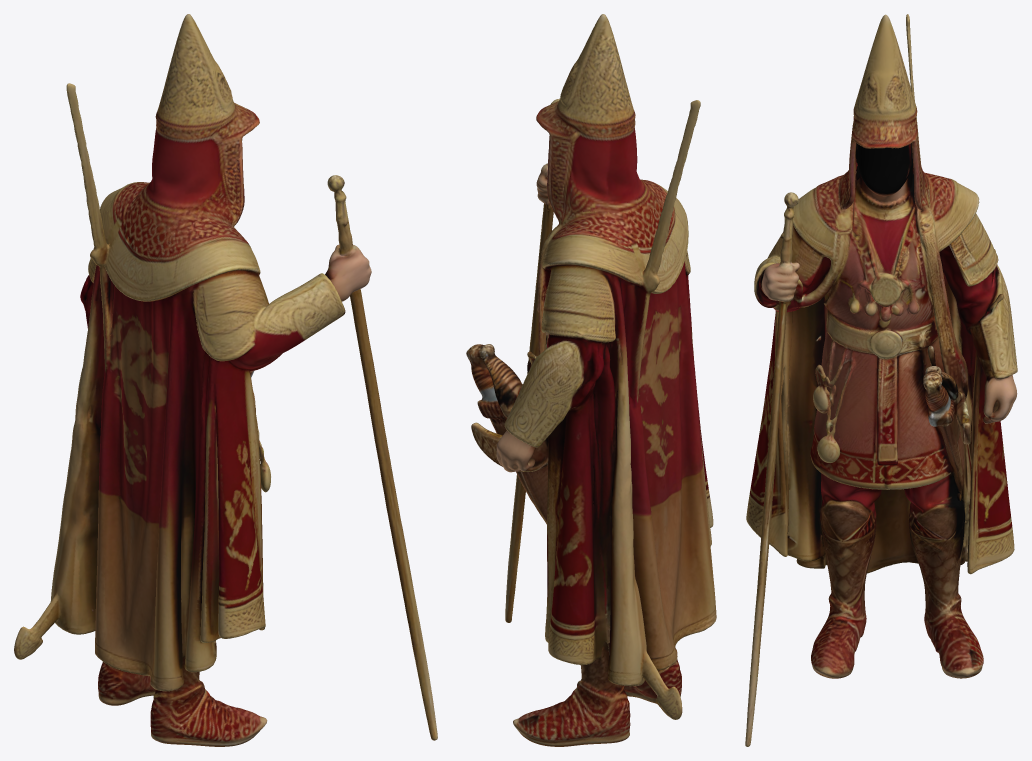
Rendered from sak_2_3d_model.glb.
The picture shows the model from 3 angles, left to right: view 1: azimuth 30°, elevation 25°; view 2: azimuth 150°, elevation 25°; view 3: azimuth 270°, elevation 25°; orthographic projection. The views are drawn at different scales.
Visible parts, largest first — view 1: tripo_node_cc521478-53c6-472c-96fd-21ad6effcb2f; view 2: tripo_node_cc521478-53c6-472c-96fd-21ad6effcb2f; view 3: tripo_node_cc521478-53c6-472c-96fd-21ad6effcb2f.
Boxes of the visible parts, bbox=[...] form: tripo_node_cc521478-53c6-472c-96fd-21ad6effcb2f: bbox=[14, 14, 437, 746]; tripo_node_cc521478-53c6-472c-96fd-21ad6effcb2f: bbox=[466, 14, 716, 746]; tripo_node_cc521478-53c6-472c-96fd-21ad6effcb2f: bbox=[745, 14, 1017, 746].
Size of the model in its own units: 0.442 by 1 by 0.3768.
1 material, 1 textured.
